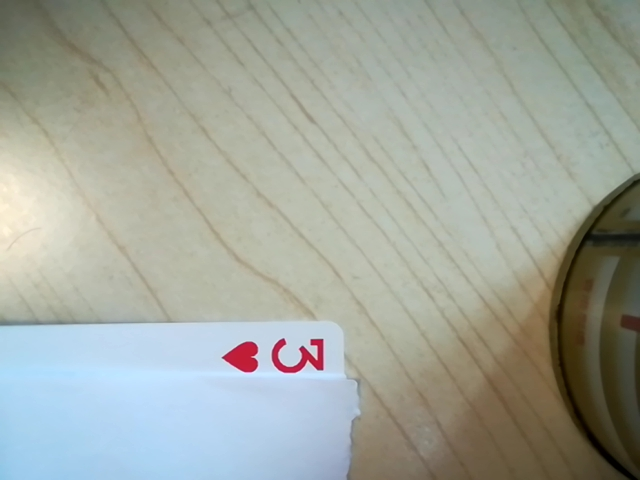hx 3: (241, 332, 334, 384)
